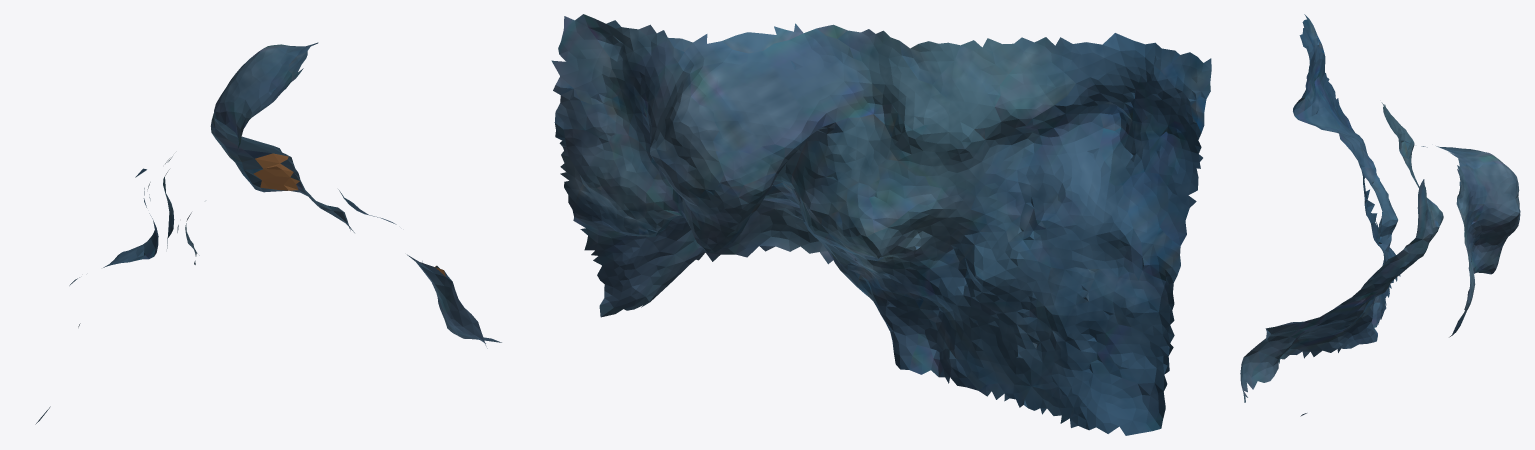
Rendered from tile_0615.gltf.
The picture shows the model from 3 angles, left to right: view 1: azimuth 30°, elevation 25°; view 2: azimuth 150°, elevation 25°; view 3: azimuth 270°, elevation 25°; orthographic projection. The views are drawn at different scales.
Parts seen in each view (by area): view 1: defaultobject; view 2: defaultobject; view 3: defaultobject.
Boxes of the visible parts, box(x1,y1,x2,y2) form: defaultobject: box(35, 42, 501, 424); defaultobject: box(551, 14, 1211, 435); defaultobject: box(1240, 14, 1520, 416).
Bounding box in the file's own units: 0.3704 × 0.2197 × 0.23.
1 material, 1 textured.
